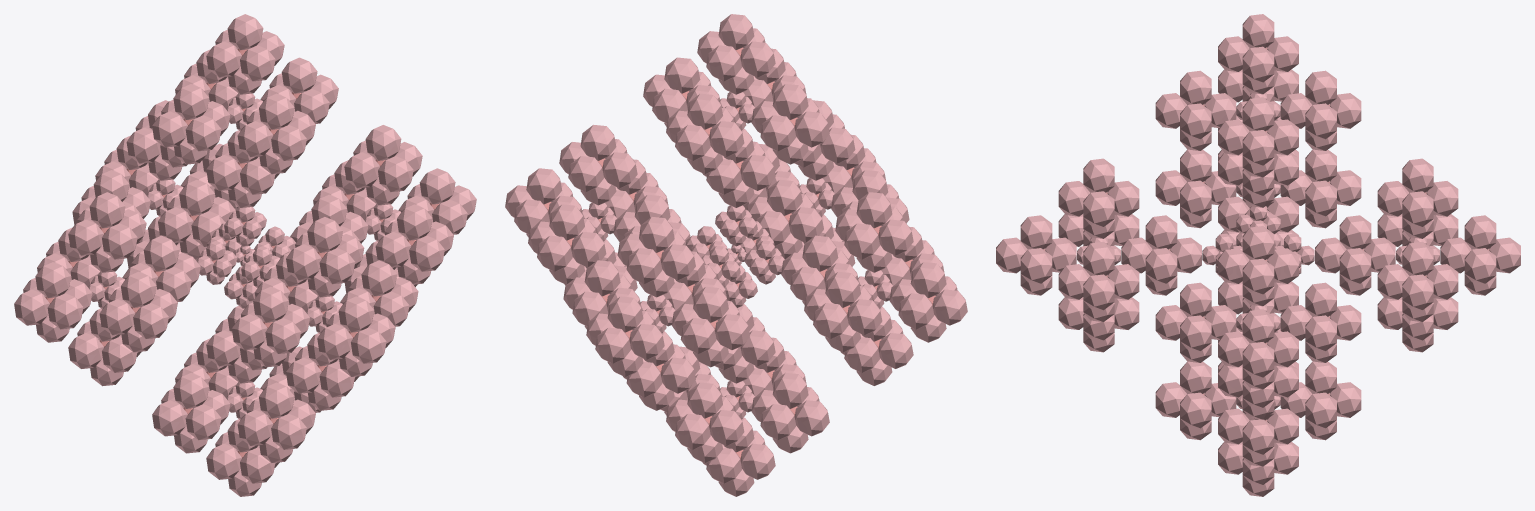
Rendered from fractalsnubcube3.glb.
The picture shows the model from 3 angles, left to right: view 1: azimuth 30°, elevation 25°; view 2: azimuth 150°, elevation 25°; view 3: azimuth 270°, elevation 25°; orthographic projection.
Bounding box in the file's own units: 10.32 × 10.32 × 10.32.
